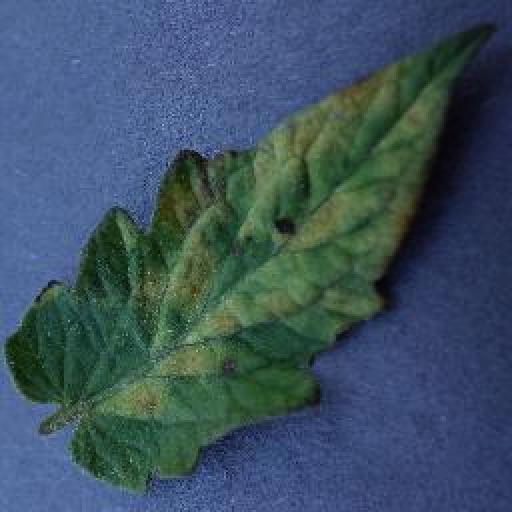disease_tomato: (4, 21, 498, 495)
